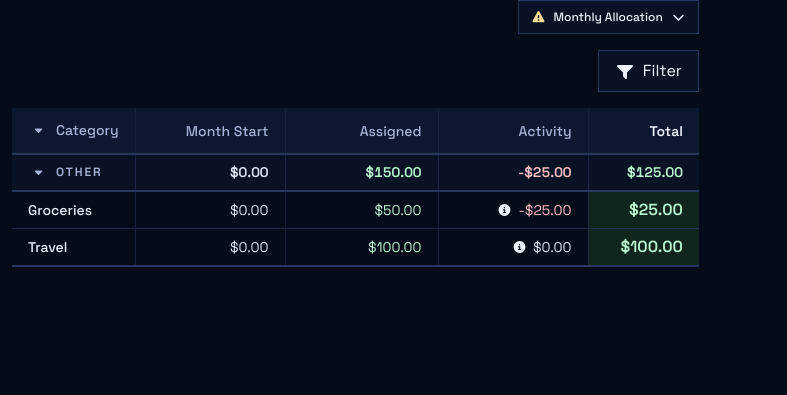
Test case: budget month navigation › filters the monthly budget table by category name
Check: the text "Groceries" is shown, box left=28, top=201, right=92, bottom=219
Check: the text "Travel" is shown, box left=28, top=238, right=67, bottom=256
Click the button "Filter": (648, 71) left=598, top=50, right=699, bottom=92
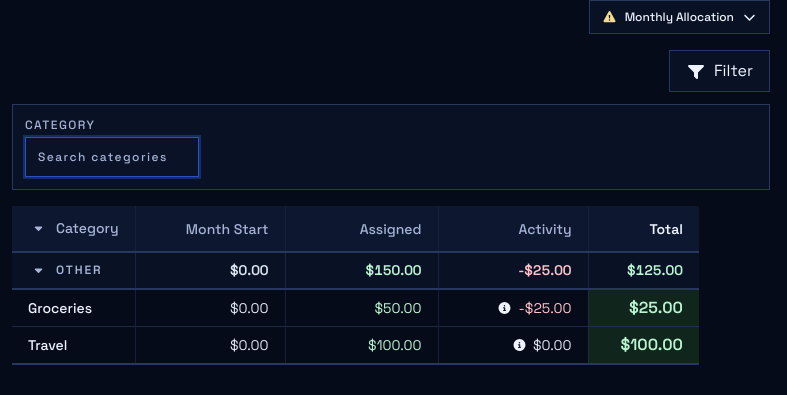
In the field labelled "Category": (112, 157) left=25, top=137, right=199, bottom=177, type "gRo"
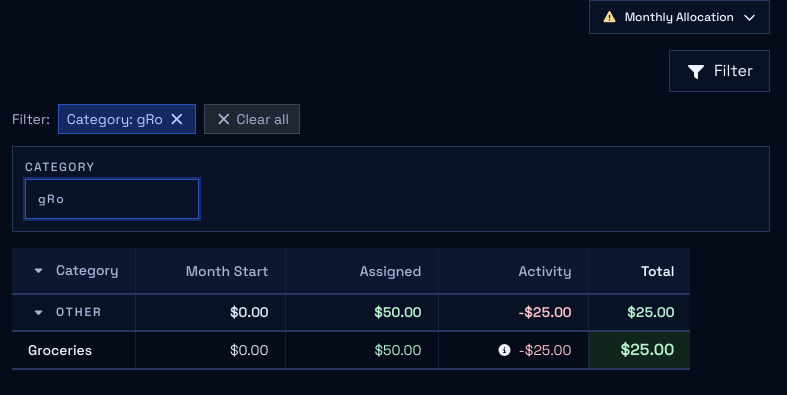
Check: the text "Filter:" is shown, box left=12, top=109, right=50, bottom=129
Check: the text "Category: gRo" is shown, box left=67, top=109, right=163, bottom=129
Check: the text "Travel" is gone
Clear the field labelled "Category": (112, 199) left=25, top=179, right=199, bottom=219
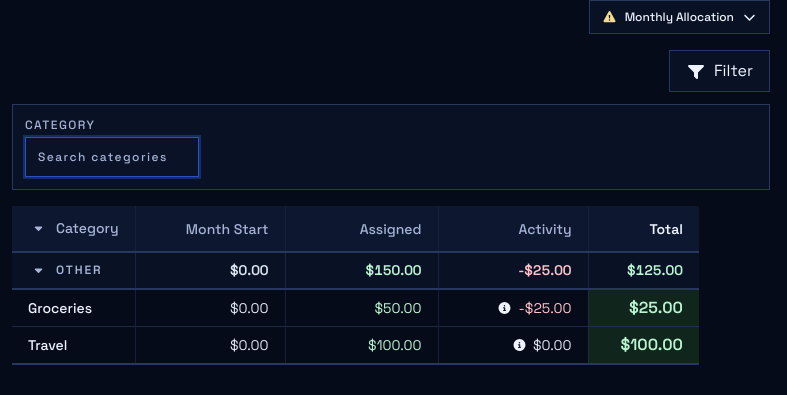
In the field labelled "Category": (112, 157) left=25, top=137, right=199, bottom=177, type "missing"
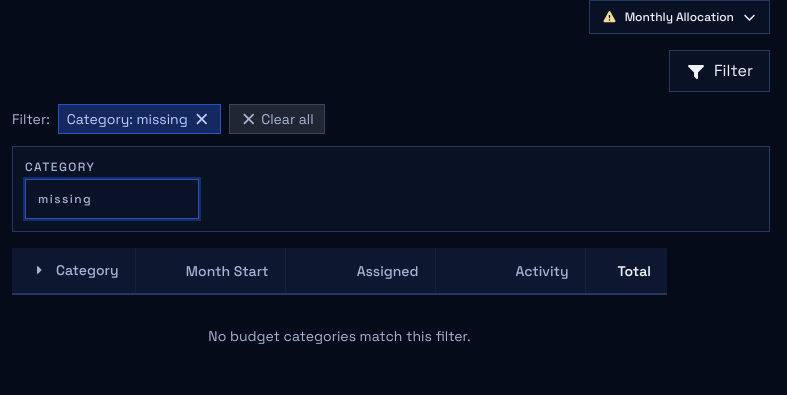
Check: the text "No budget categories match this filter." is shown, box left=12, top=294, right=667, bottom=378
Click the button "Clear all": (277, 119) left=229, top=104, right=325, bottom=134
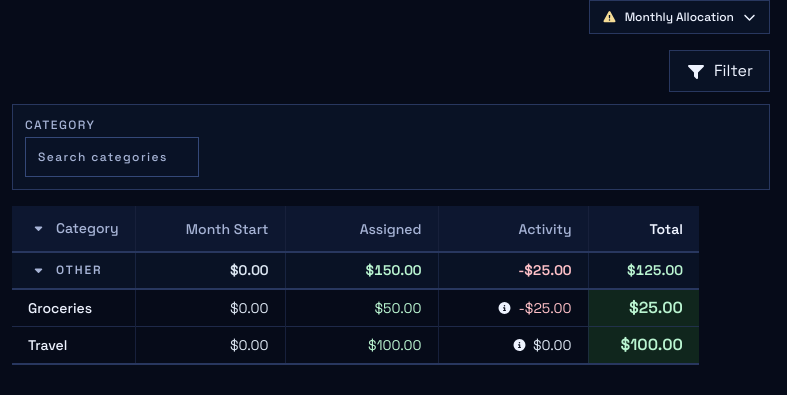
Check: the text "Filter:" is gone
Check: the text "Travel" is shown, box left=28, top=336, right=67, bottom=354
